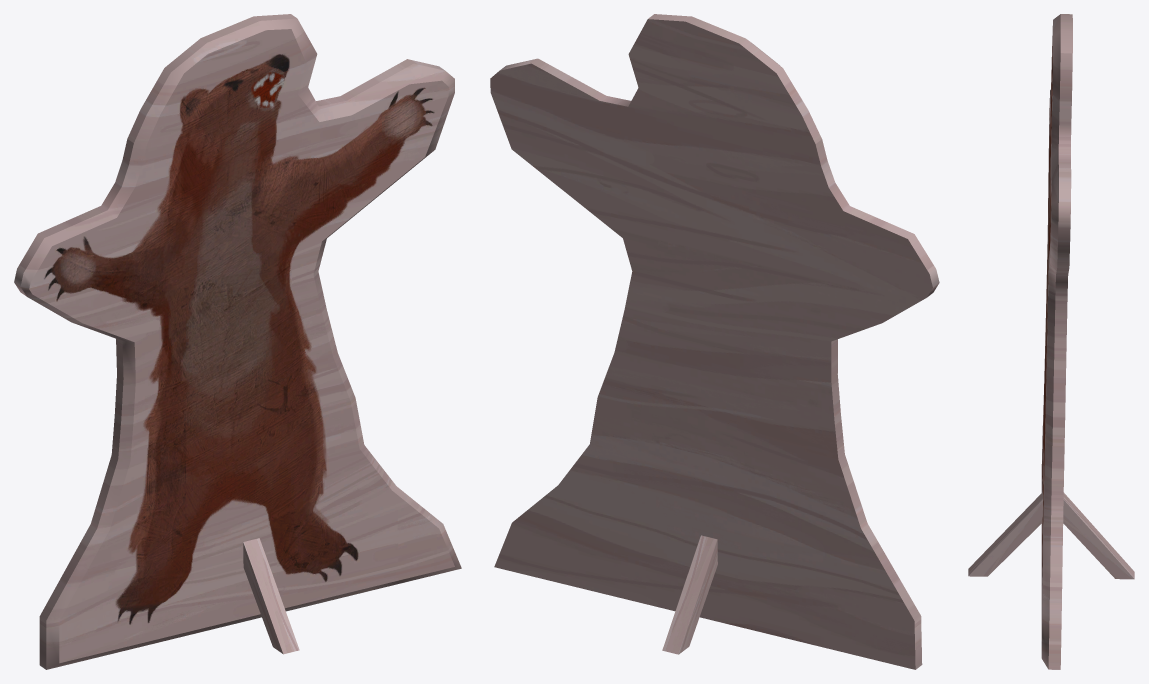
File: bear standeel.glb
3 views of the same model, side by side, from view 1: azimuth 30°, elevation 25°; view 2: azimuth 150°, elevation 25°; view 3: azimuth 270°, elevation 25° (orthographic). The views are drawn at different scales.
Visible parts, largest first — view 1: Bear_Standee; view 2: Bear_Standee; view 3: Bear_Standee.
Boxes of the visible parts, x1,y1,x2,y2 form: Bear_Standee: [14, 14, 461, 669]; Bear_Standee: [490, 14, 939, 669]; Bear_Standee: [968, 14, 1134, 669].
Bounding box in the file's own units: 1.3 × 1.69 × 0.4615.
Materials: 1 (1 with a texture image).
